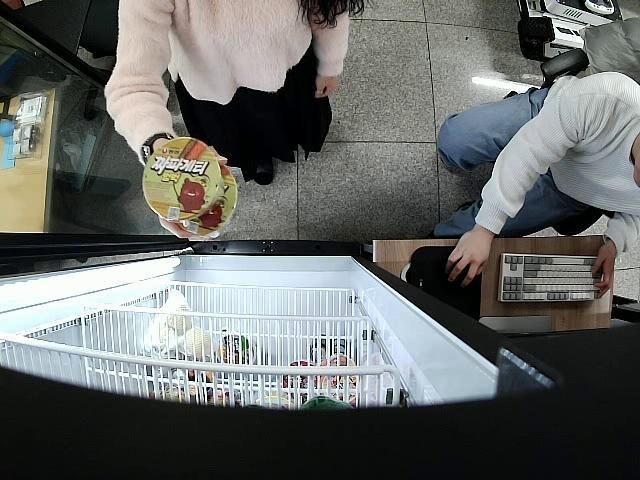04_chapagetti_S: (144, 138, 218, 221)
